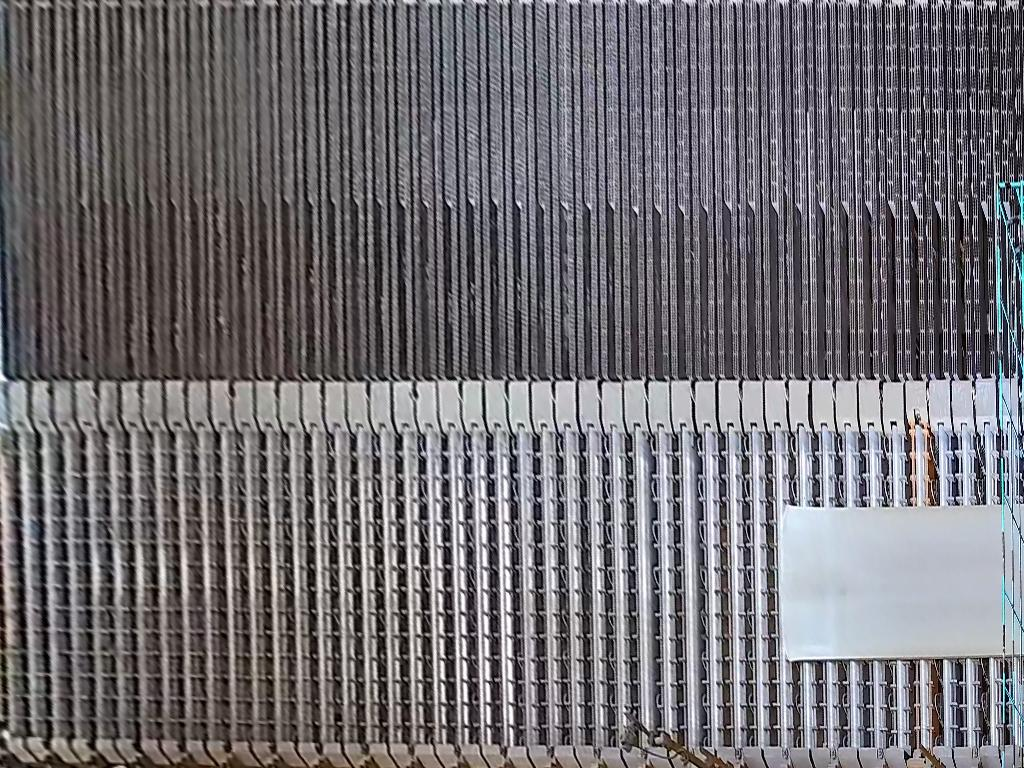steel: (772, 504, 1024, 662)
